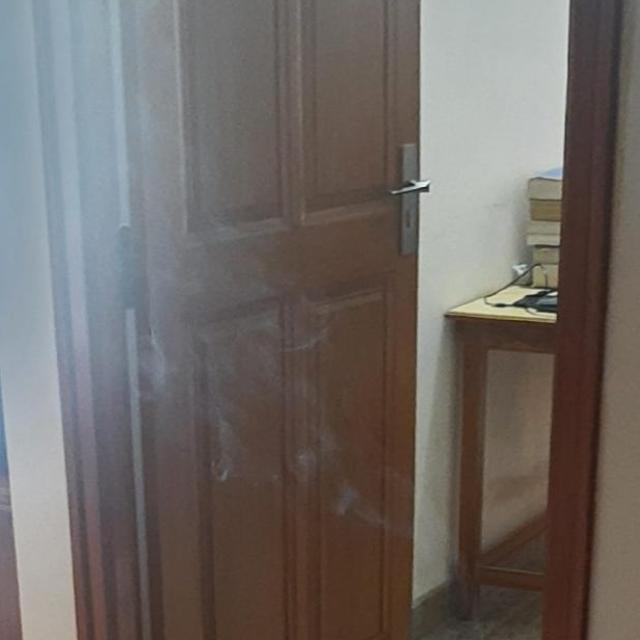fire: (11, 100, 386, 521)
